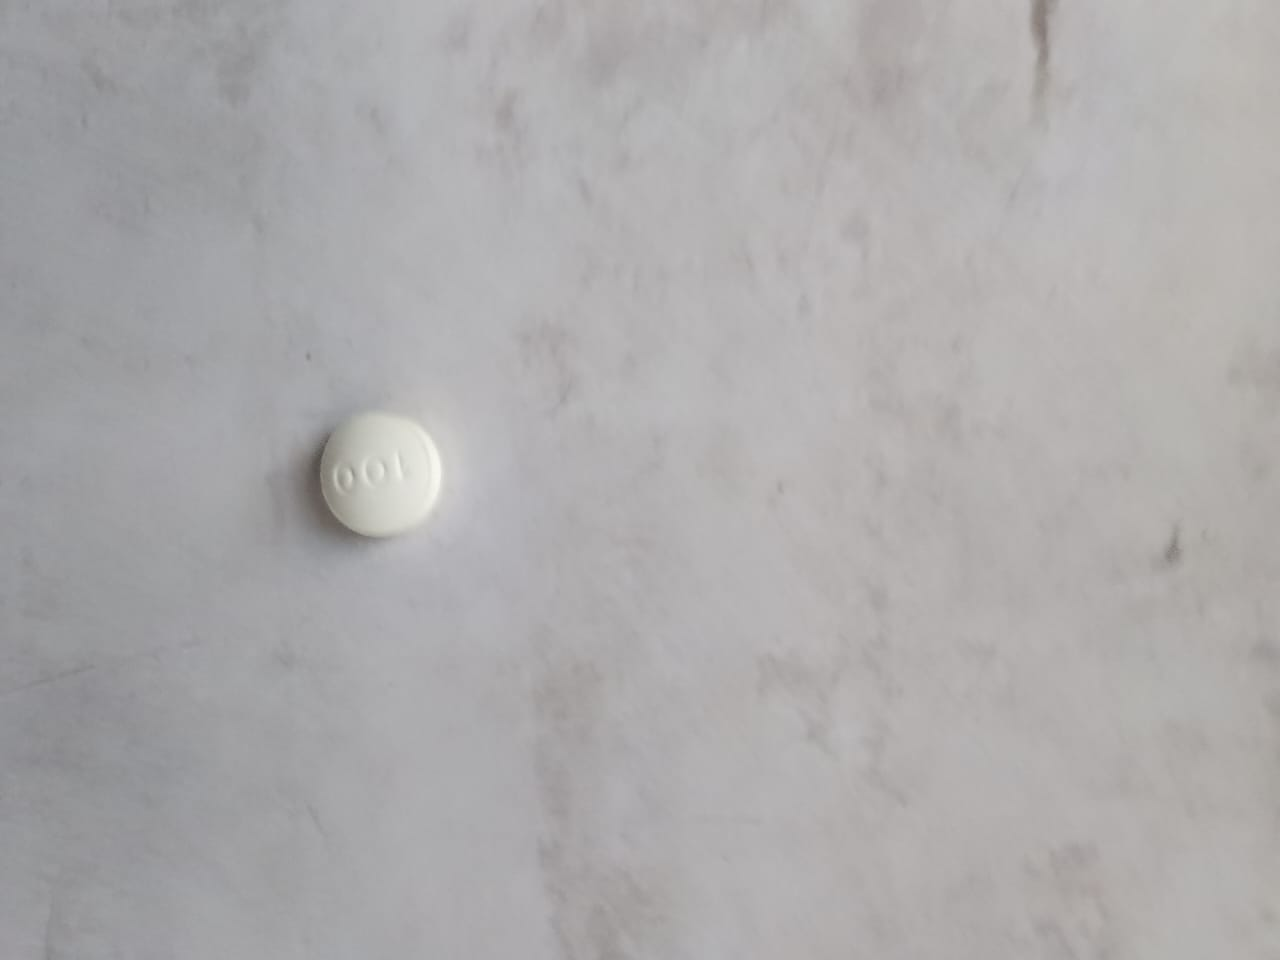Nise: (294, 405, 450, 537)
